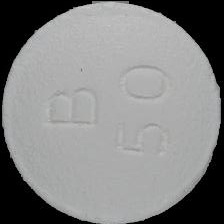16714-571: (0, 0, 224, 224)
